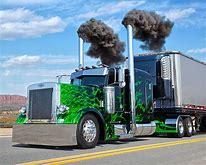smoke: (76, 17, 122, 61), (124, 9, 174, 49)
